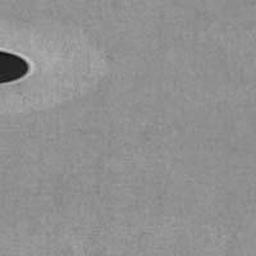Punching: (0, 50, 28, 83)
